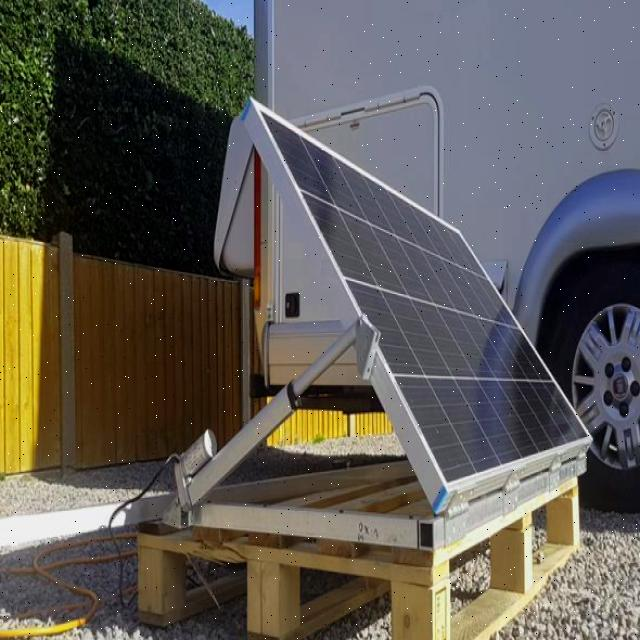Normal Solar Panel: (255, 105, 593, 492)
